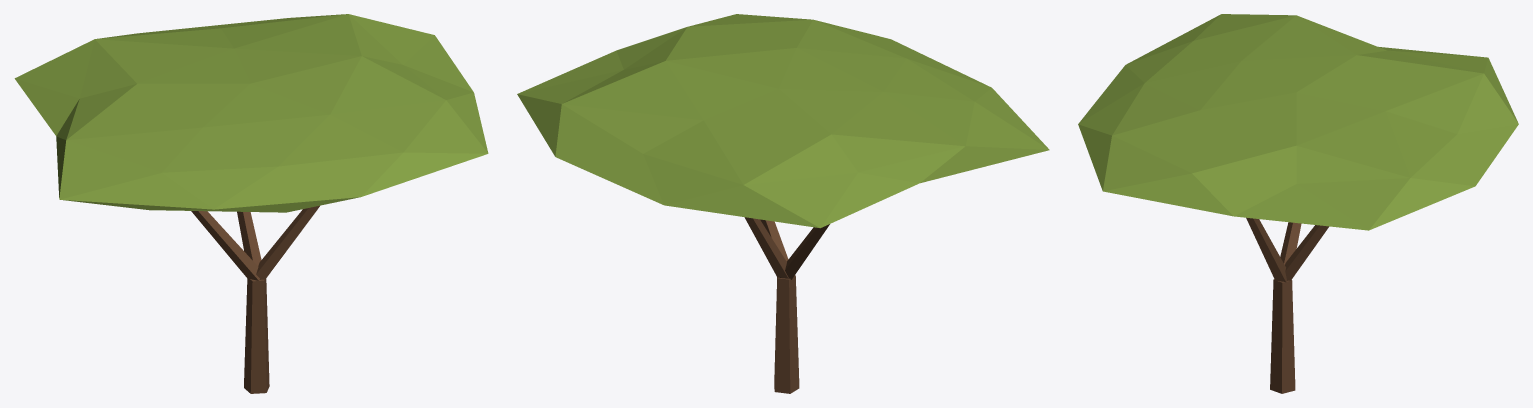
File: acacia.glb
The picture shows the model from 3 angles, left to right: view 1: azimuth 30°, elevation 25°; view 2: azimuth 150°, elevation 25°; view 3: azimuth 270°, elevation 25°; orthographic projection. The views are drawn at different scales.
Visible parts, largest first — view 1: acacia; view 2: acacia; view 3: acacia.
Boxes of the visible parts, box(x1,y1,x2,y2) form: acacia: box(14, 14, 488, 393); acacia: box(517, 14, 1049, 393); acacia: box(1078, 14, 1518, 393).
Size of the model in its own units: 11.43 by 7.29 by 9.84.
1 material, 1 textured.
